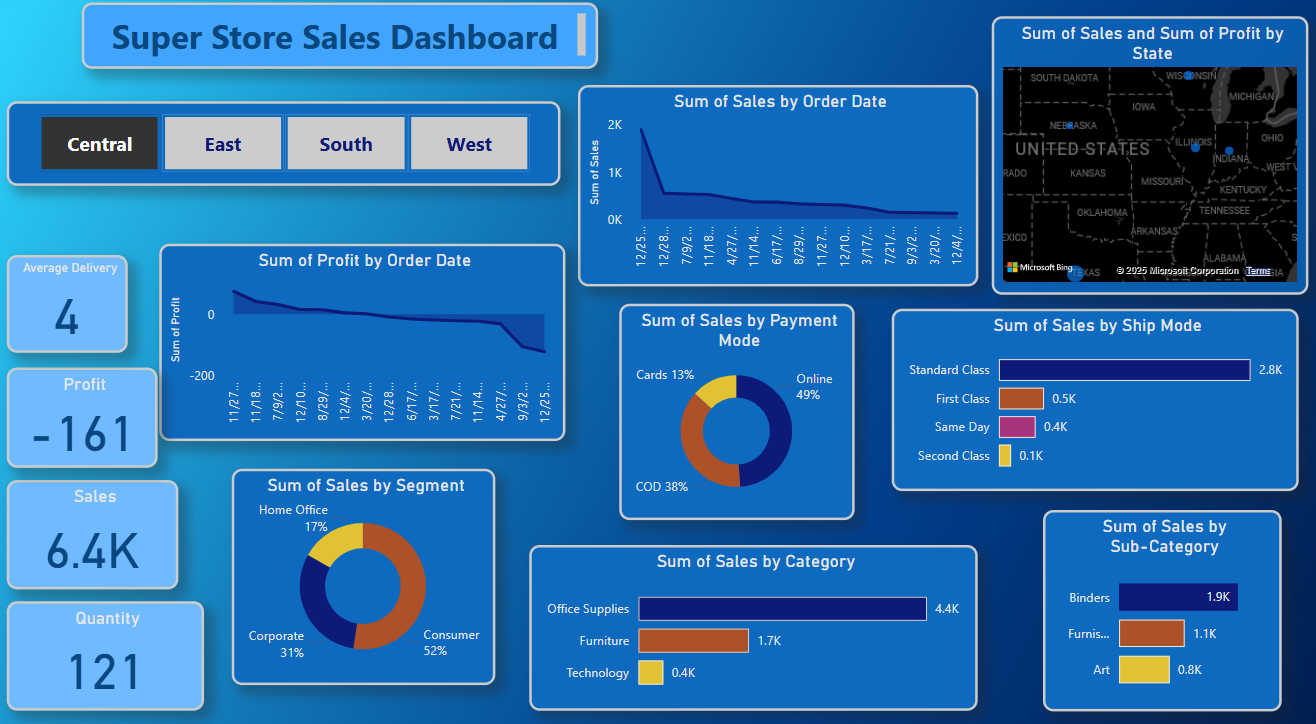

The page's visual inventory and layout, read from the dashboard file:
{"tool":"powerbi","page":{"name":"Page 1","canvas":[1280,720],"ordinal":0},"visuals":[{"type":"clusteredBarChart","fields":{"Category":["SuperStore-Sales-DataSet.Category"],"Y":["Sum(SuperStore-Sales-DataSet.Sales)"]},"box":[517.1,531.4,432.9,160],"z":0},{"type":"clusteredBarChart","fields":{"Category":["SuperStore-Sales-DataSet.Sub-Category"],"Y":["Sum(SuperStore-Sales-DataSet.Sales)"]},"box":[1012.9,497.1,230,194.3],"z":1000},{"type":"clusteredBarChart","fields":{"Category":["SuperStore-Sales-DataSet.Ship Mode"],"Y":["Sum(SuperStore-Sales-DataSet.Sales)"]},"box":[867.1,302.9,392.9,175.7],"z":2000},{"type":"stackedAreaChart","fields":{"Category":["SuperStore-Sales-DataSet.Order Date"],"Y":["Sum(SuperStore-Sales-DataSet.Sales)"]},"box":[564.6,86.9,386.1,194.2],"z":3000},{"type":"stackedAreaChart","fields":{"Category":["SuperStore-Sales-DataSet.Order Date"],"Y":["Sum(SuperStore-Sales-DataSet.Profit)"]},"box":[160.5,240.1,392.1,190.6],"z":4000},{"type":"map","fields":{"Category":["SuperStore-Sales-DataSet.State"],"Size":["Sum(SuperStore-Sales-DataSet.Sales)"]},"box":[964.3,20,305.7,268.6],"z":5000},{"type":"donutChart","fields":{"Y":["Sum(SuperStore-Sales-DataSet.Sales)"],"Category":["SuperStore-Sales-DataSet.Segment"]},"box":[230,457.1,254.3,208.6],"z":6000},{"type":"donutChart","fields":{"Y":["Sum(SuperStore-Sales-DataSet.Sales)"],"Category":["SuperStore-Sales-DataSet.Payment Mode"]},"box":[604.3,298.6,227.1,208.6],"z":7000},{"type":"slicer","fields":{"Values":["SuperStore-Sales-DataSet.Region"]},"box":[12.9,102.9,534.3,81.4],"z":8000},{"type":"textbox","box":[85.7,7.2,498.3,63.9],"z":9000},{"type":"card","title":"Sales","fields":{"Values":["Sum(SuperStore-Sales-DataSet.Sales)"]},"box":[12.9,468.6,165.7,105.7],"z":10000},{"type":"card","title":"Quantity","fields":{"Values":["Sum(SuperStore-Sales-DataSet.Quantity)"]},"box":[12.9,585.7,190,105.7],"z":11000},{"type":"actionButton","box":[0,0,100,40],"z":12000},{"type":"card","title":"Profit","fields":{"Values":["Sum(SuperStore-Sales-DataSet.Profit)"]},"box":[12.9,360,145.7,97.1],"z":13000},{"type":"card","title":"Average Delivery","fields":{"Values":["Avg(SuperStore-Sales-DataSet.AvgDelivery)"]},"box":[12.9,251.4,117.1,94.3],"z":14000}]}

Visuals, with their boxes in screenshot pixels (x1, y1, x2, y2), scaled from the page's 1280x720 canvas onto the 1316x724 screenshot:
clusteredBarChart - SuperStore-Sales-DataSet.Category x Sum(SuperStore-Sales-DataSet.Sales): (532, 534, 977, 695)
clusteredBarChart - SuperStore-Sales-DataSet.Sub-Category x Sum(SuperStore-Sales-DataSet.Sales): (1041, 500, 1278, 695)
clusteredBarChart - SuperStore-Sales-DataSet.Ship Mode x Sum(SuperStore-Sales-DataSet.Sales): (891, 305, 1295, 481)
stackedAreaChart - SuperStore-Sales-DataSet.Order Date x Sum(SuperStore-Sales-DataSet.Sales): (580, 87, 977, 283)
stackedAreaChart - SuperStore-Sales-DataSet.Order Date x Sum(SuperStore-Sales-DataSet.Profit): (165, 241, 568, 433)
map - SuperStore-Sales-DataSet.State x Sum(SuperStore-Sales-DataSet.Sales): (991, 20, 1306, 290)
donutChart - Sum(SuperStore-Sales-DataSet.Sales) x SuperStore-Sales-DataSet.Segment: (236, 460, 498, 669)
donutChart - Sum(SuperStore-Sales-DataSet.Sales) x SuperStore-Sales-DataSet.Payment Mode: (621, 300, 855, 510)
slicer - SuperStore-Sales-DataSet.Region: (13, 103, 563, 185)
textbox: (88, 7, 600, 71)
"Sales" card: (13, 471, 184, 577)
"Quantity" card: (13, 589, 209, 695)
actionButton: (0, 0, 103, 40)
"Profit" card: (13, 362, 163, 460)
"Average Delivery" card: (13, 253, 134, 348)
